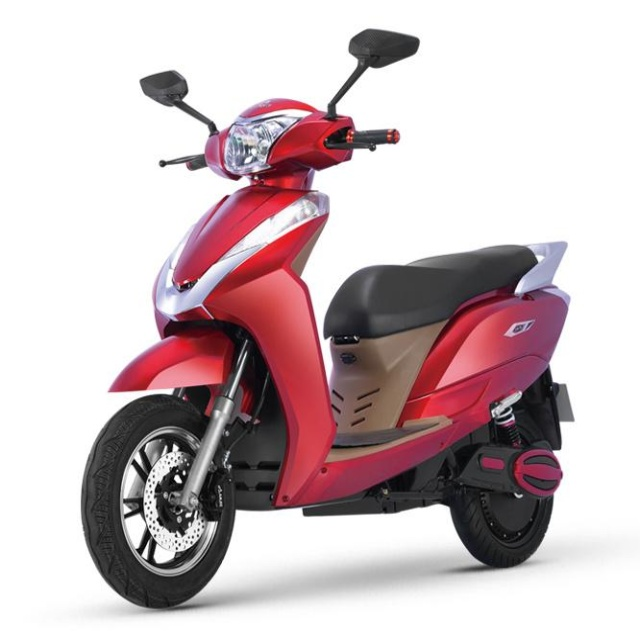Motorcycle: (79, 29, 575, 610)
